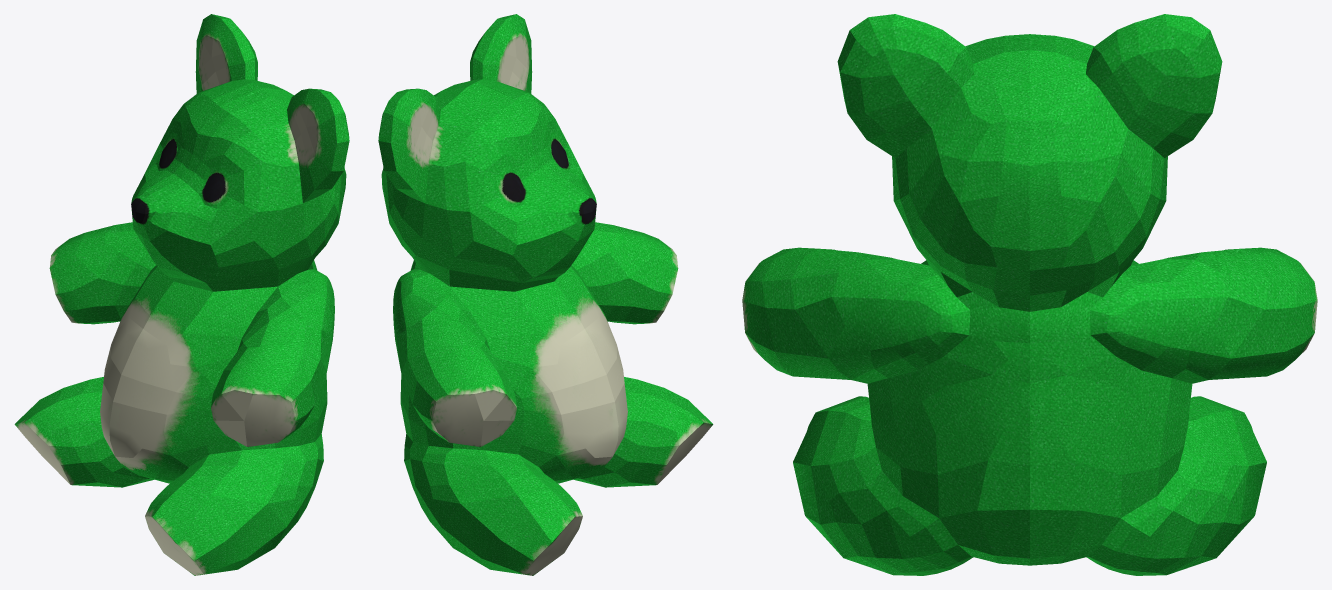
File: SM_Green_Teddy_Bear.fbx
3 views of the same model, side by side, from view 1: azimuth 30°, elevation 25°; view 2: azimuth 150°, elevation 25°; view 3: azimuth 270°, elevation 25° (orthographic). The views are drawn at different scales.
Visible parts, largest first — view 1: Bear_Green; view 2: Bear_Green; view 3: Bear_Green.
Boxes of the visible parts, x1=… form: Bear_Green: x1=14, y1=14, x2=349, y2=575; Bear_Green: x1=378, y1=14, x2=713, y2=575; Bear_Green: x1=742, y1=14, x2=1317, y2=575.
Bounding box in the file's own units: 10.16 × 15.21 × 17.67.
Materials: 1 (1 with a texture image).
